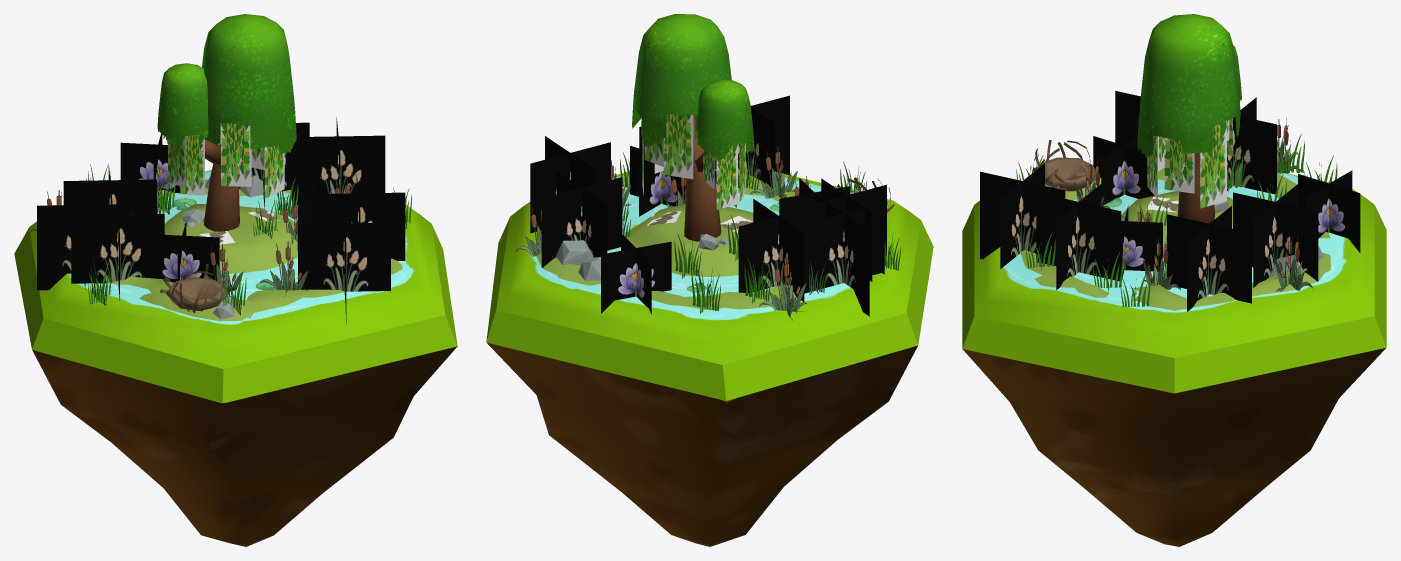
The model's file is Advanced_Habitat.fbx.
3 views of the same model, side by side, from view 1: azimuth 30°, elevation 25°; view 2: azimuth 150°, elevation 25°; view 3: azimuth 270°, elevation 25° (orthographic). The views are drawn at different scales.
Visible parts, largest first — view 1: polySurface1136; view 2: polySurface1136; view 3: polySurface1136.
Boxes of the visible parts, bbox=[...] form: polySurface1136: bbox=[14, 14, 457, 546]; polySurface1136: bbox=[486, 14, 933, 546]; polySurface1136: bbox=[962, 14, 1386, 546].
Size of the model in its own units: 11.53 by 13.82 by 9.99.
Materials: 10 (9 with a texture image).
